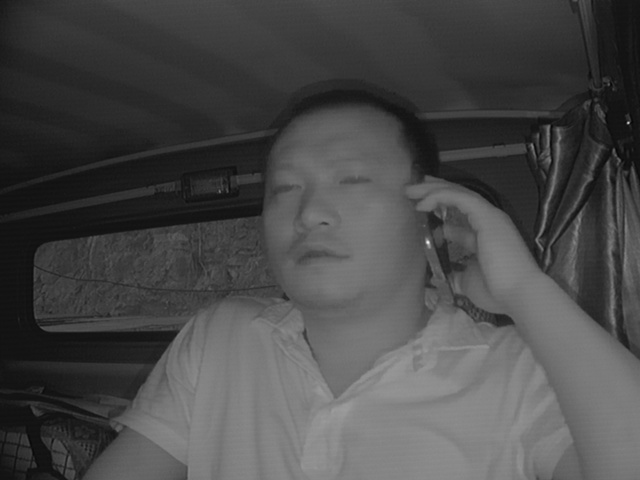hand: (411, 178, 517, 313)
